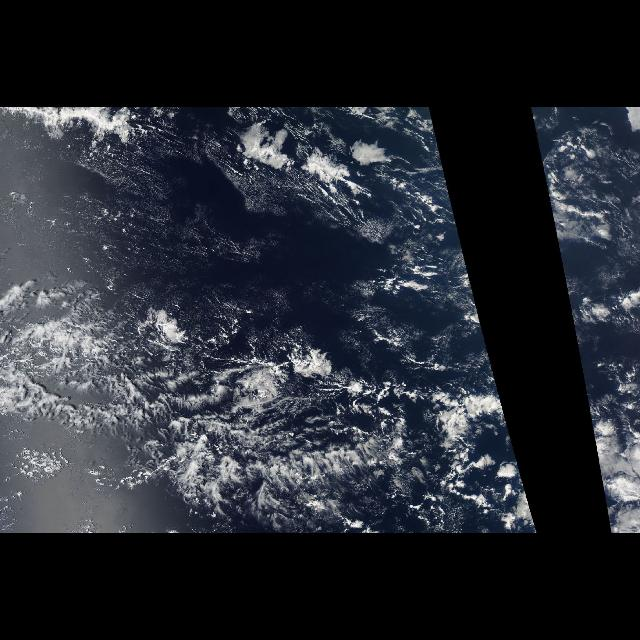Sugar: (3, 141, 275, 303)
